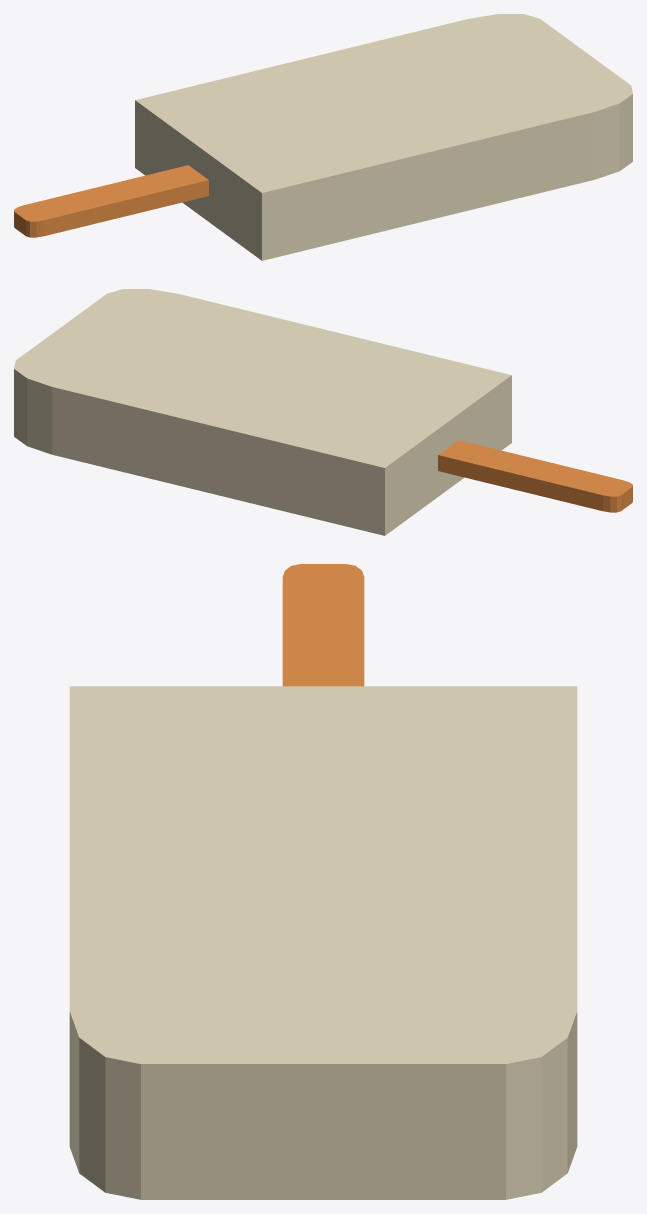
The model's file is paleta.fbx.
3 views of the same model, one above another, from view 1: azimuth 30°, elevation 25°; view 2: azimuth 150°, elevation 25°; view 3: azimuth 270°, elevation 25° (orthographic). The views are drawn at different scales.
Visible parts, largest first — view 1: Paleta; view 2: Paleta; view 3: Paleta.
Part boxes in pixels (x1,y1,x2,y2): Paleta: [14, 14, 632, 260]; Paleta: [14, 289, 632, 535]; Paleta: [69, 564, 577, 1199].
Bounding box in the file's own units: 18.54 × 2.13 × 7.21.
